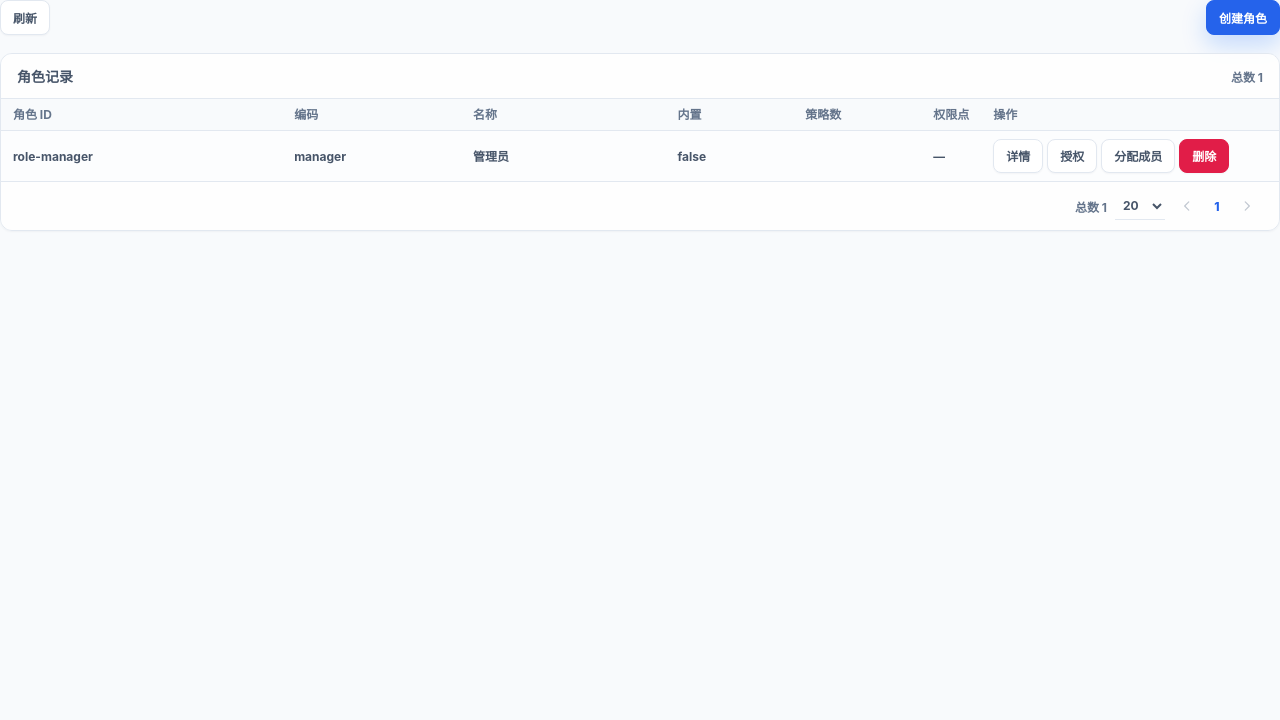
Test: RolesView › 已有管理者授权再次打开时不应退回使用者
Click the button "授权" at (1072, 156), box [1047,139,1097,173]
(page scrolled)
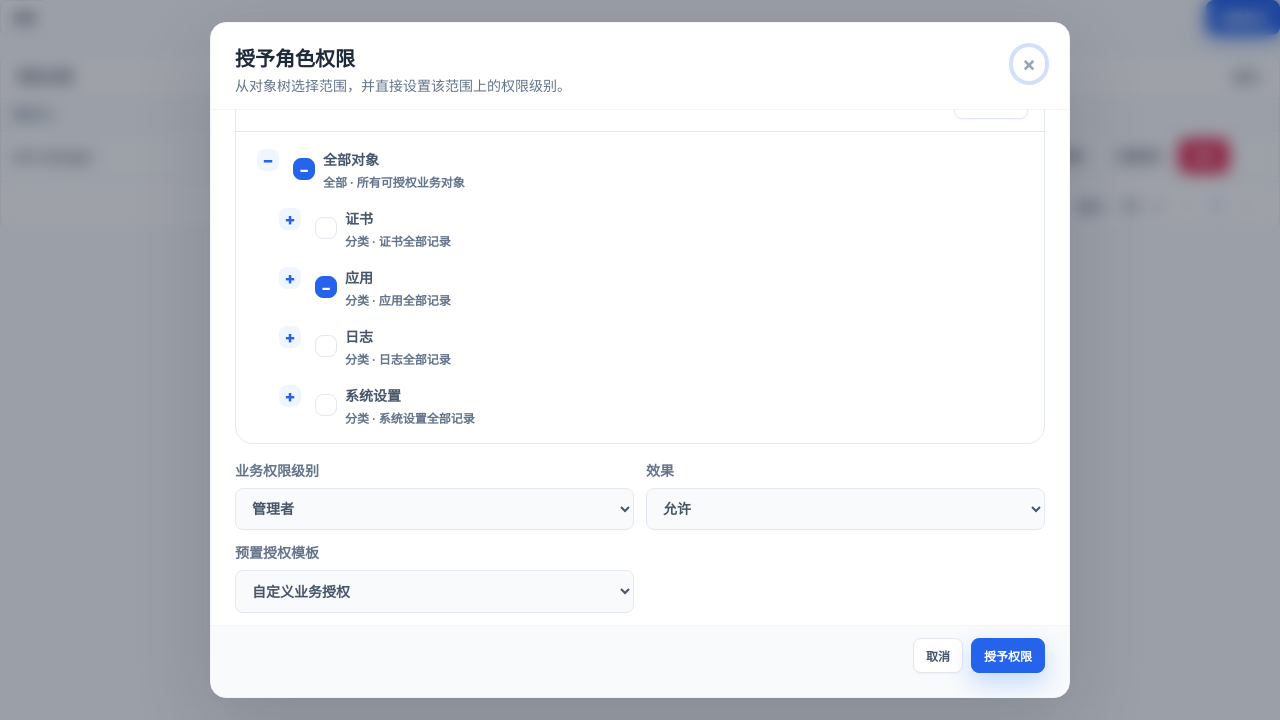
Now the dropdown labelled "业务权限级别" shows "管理者", box [235,488,634,530]
